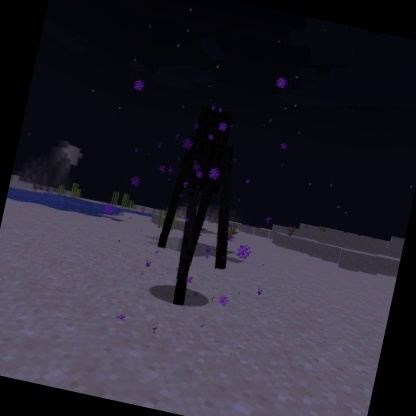enderman: (141, 97, 262, 318)
